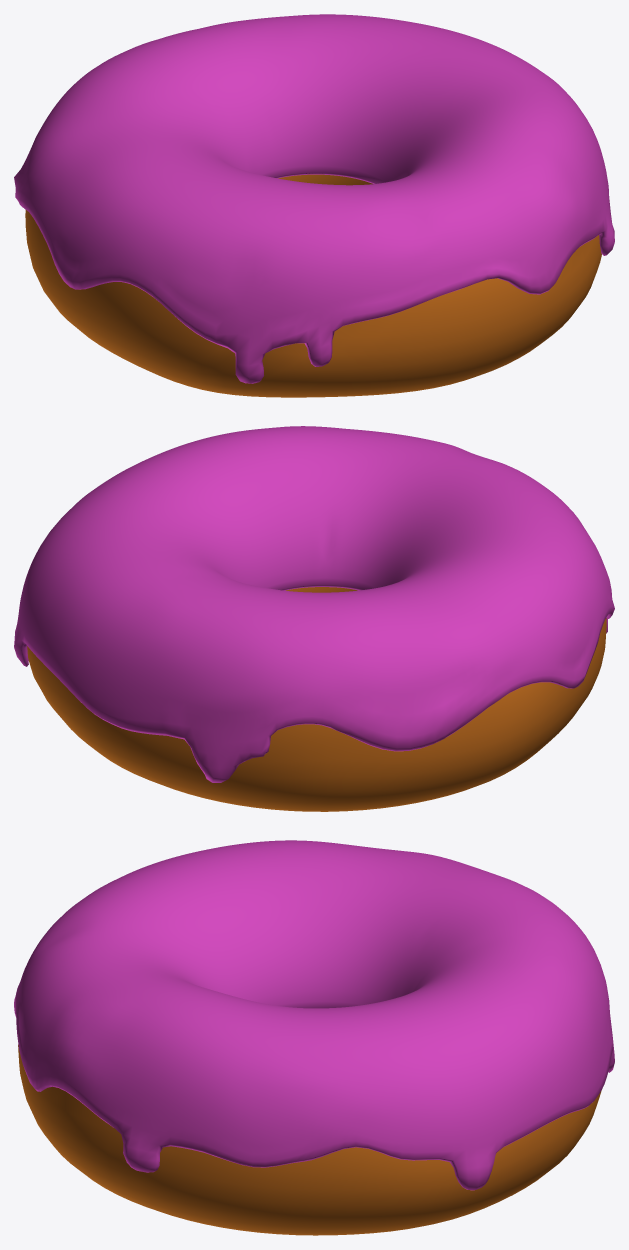
Rendered from donut.obj.
3 renders of one model, top to bottom at view 1: azimuth 30°, elevation 25°; view 2: azimuth 150°, elevation 25°; view 3: azimuth 270°, elevation 25°, orthographic. The views are drawn at different scales.
Parts seen in each view (by area): view 1: icing, Torus; view 2: icing, Torus; view 3: icing, Torus.
Part boxes in pixels (<box>): icing: <box>14,14,614,383</box>; Torus: <box>25,174,601,397</box>; icing: <box>14,426,614,782</box>; Torus: <box>27,587,606,811</box>; icing: <box>14,840,614,1190</box>; Torus: <box>18,1045,601,1235</box>.
Bounding box in the file's own units: 0.1128 × 0.0435 × 0.112.
